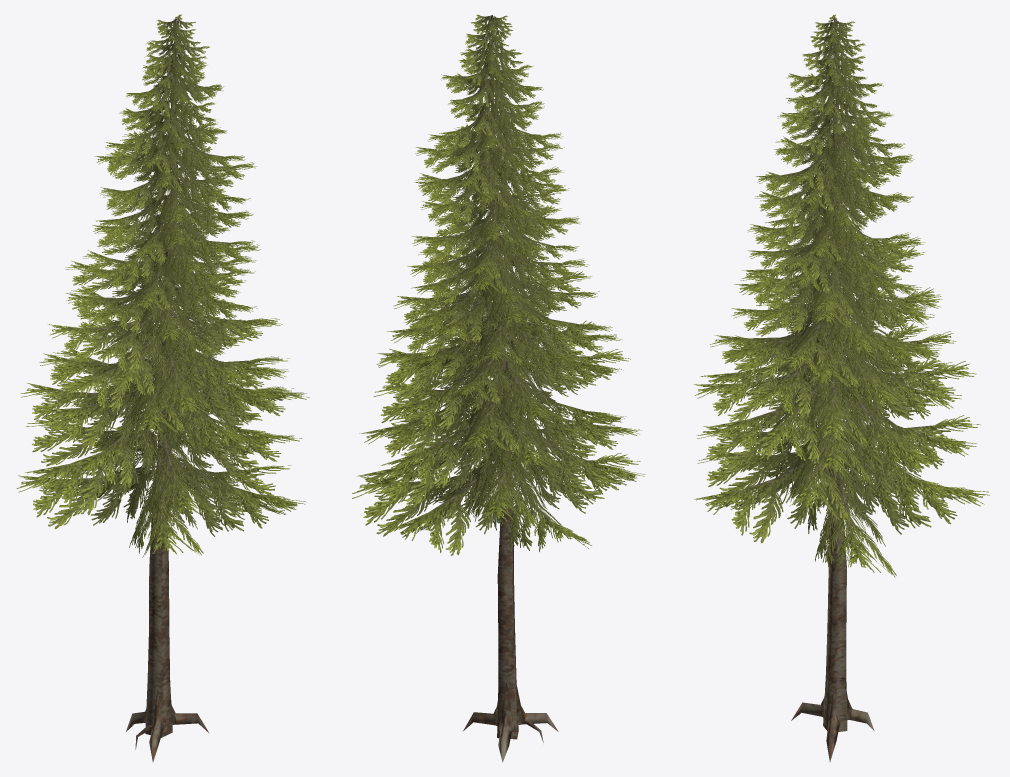
The model's file is SM_PineTree_02.fbx.
3 renders of one model, left to right at view 1: azimuth 30°, elevation 25°; view 2: azimuth 150°, elevation 25°; view 3: azimuth 270°, elevation 25°, orthographic.
Visible parts, largest first — view 1: SM_PineTree_02; view 2: SM_PineTree_02; view 3: SM_PineTree_02.
Part boxes in pixels (bbox=[...]): SM_PineTree_02: bbox=[16, 14, 309, 761]; SM_PineTree_02: bbox=[352, 14, 645, 762]; SM_PineTree_02: bbox=[693, 14, 989, 761].
Size of the model in its own units: 607 by 1522 by 593.
